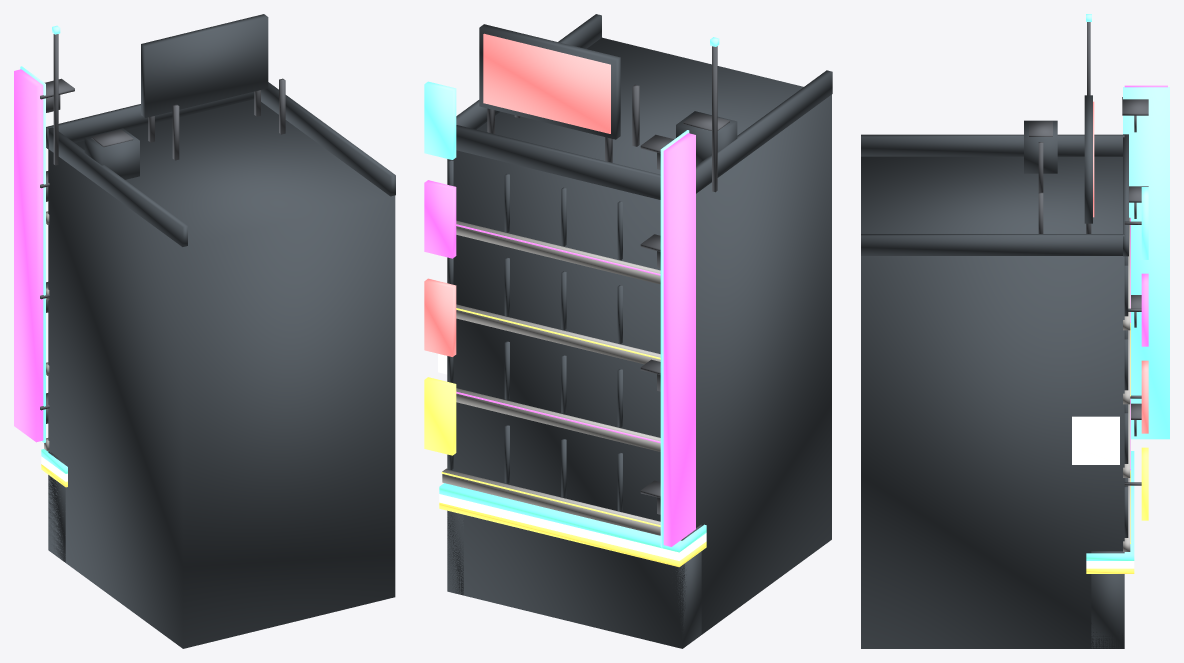
File: tokyo_neon_tower_b.glb
3 views of the same model, side by side, from view 1: azimuth 30°, elevation 25°; view 2: azimuth 150°, elevation 25°; view 3: azimuth 270°, elevation 25° (orthographic). The views are drawn at different scales.
Parts seen in each view (by area): view 1: tokyo_neon_tower_b; view 2: tokyo_neon_tower_b; view 3: tokyo_neon_tower_b.
Boxes of the visible parts, bbox=[...] form: tokyo_neon_tower_b: bbox=[14, 14, 395, 648]; tokyo_neon_tower_b: bbox=[424, 14, 832, 648]; tokyo_neon_tower_b: bbox=[861, 14, 1169, 648].
Bounding box in the file's own units: 11.12 × 24.27 × 12.88.
